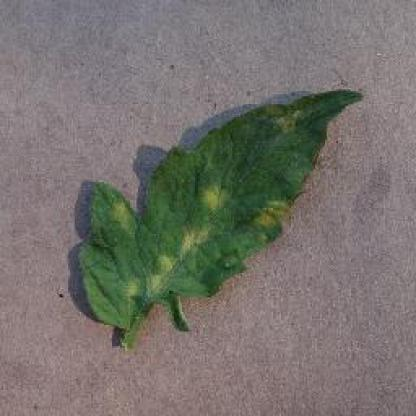bad leaf: (78, 73, 370, 349)
